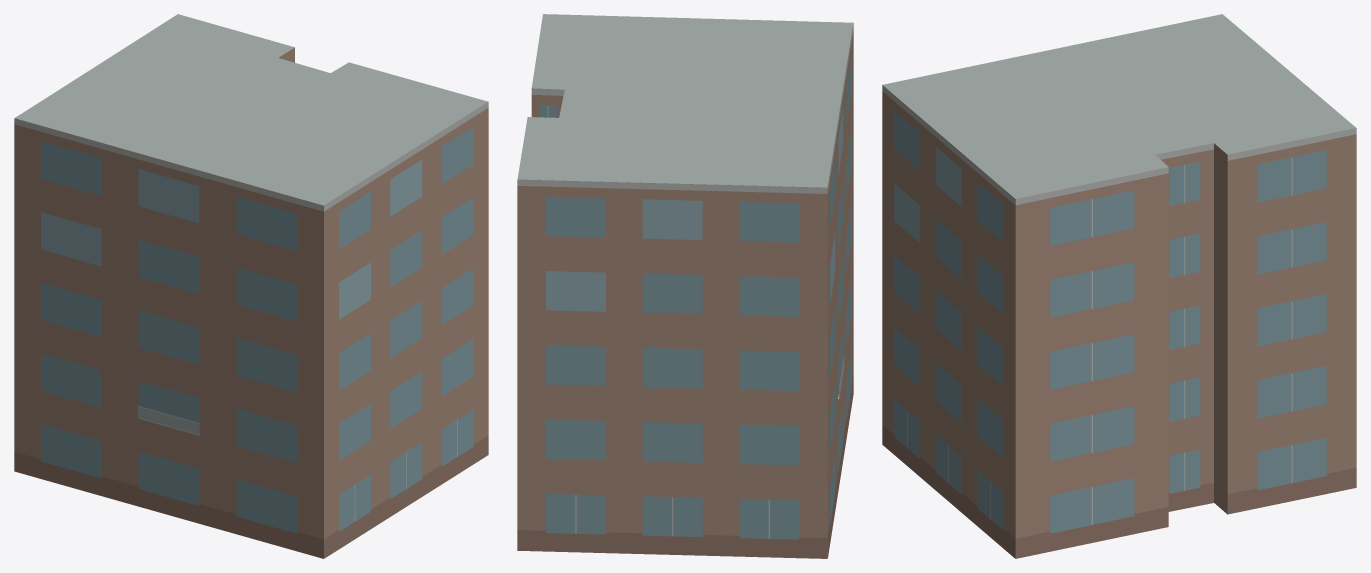
File: survey-upis-32741628.glb
The picture shows the model from 3 angles, left to right: view 1: azimuth 30°, elevation 25°; view 2: azimuth 150°, elevation 25°; view 3: azimuth 270°, elevation 25°; orthographic projection. The views are drawn at different scales.
Parts seen in each view (by area): view 1: survey-upis-32741628.tmp; view 2: survey-upis-32741628.tmp; view 3: survey-upis-32741628.tmp.
Part boxes in pixels (box(x1,y1,x2,y2)): survey-upis-32741628.tmp: box(14, 14, 488, 558); survey-upis-32741628.tmp: box(517, 14, 853, 558); survey-upis-32741628.tmp: box(882, 14, 1356, 558).
Bounding box in the file's own units: 15.68 × 14.2 × 16.97.
